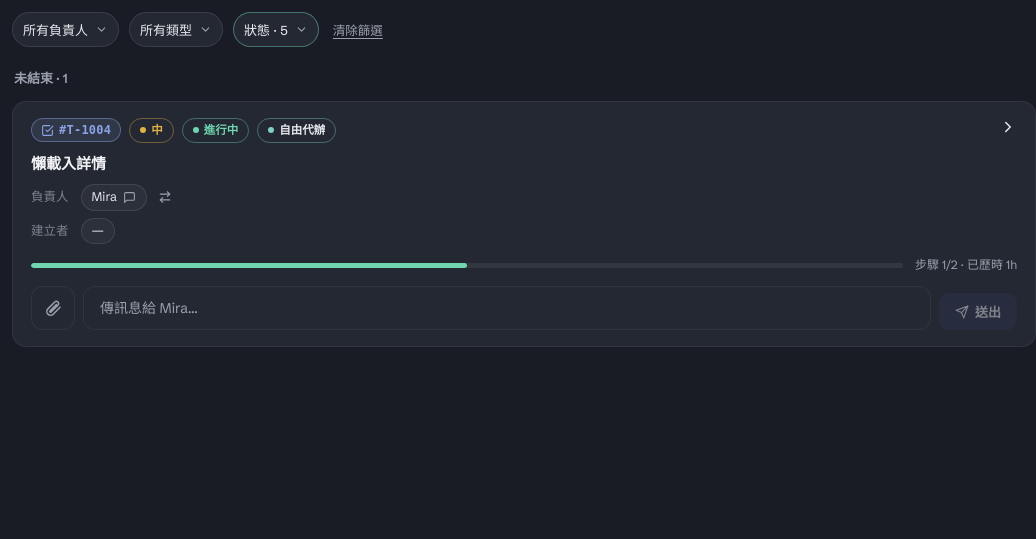
it: TasksPage › light list + lazy detail on expand › keeps steps/description off the collapsed card and hydrates them via getTask on expand
The width and height of the screenshot is (1036, 539).
Check: the heading "懶載入詳情" is shown, box [31,153,106,174]
Check: the text with test id "task-progress" shows "1", box [915,257,958,272]
# Expand → getTask fires once and the steps + description hydrate in.
Click the button with test id "task-card" at (524, 332), box [12,100,1035,347]
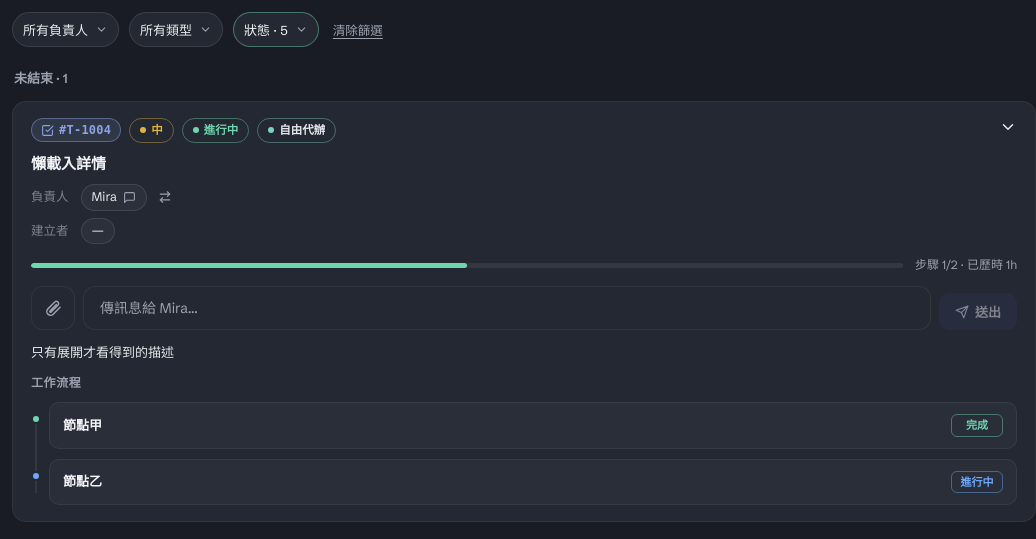
Check: the text "節點甲" is shown, box [63,418,102,433]
Check: the text "節點乙" is shown, box [63,474,102,489]
Check: the text "只有展開才看得到的描述" is shown, box [31,344,174,360]
